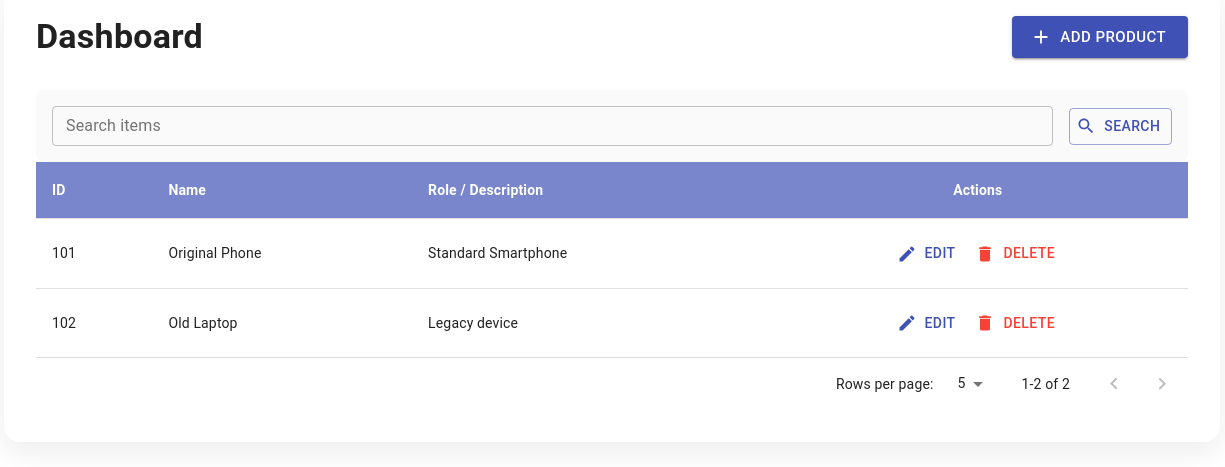
Test case: DeleteAndEdit Component › should handle product deletion
Expected: the text "Old Laptop" is shown, [152,288,412,358]
Click the button "Delete" in the row of "102": [1017, 323] box [972,305,1063,341]
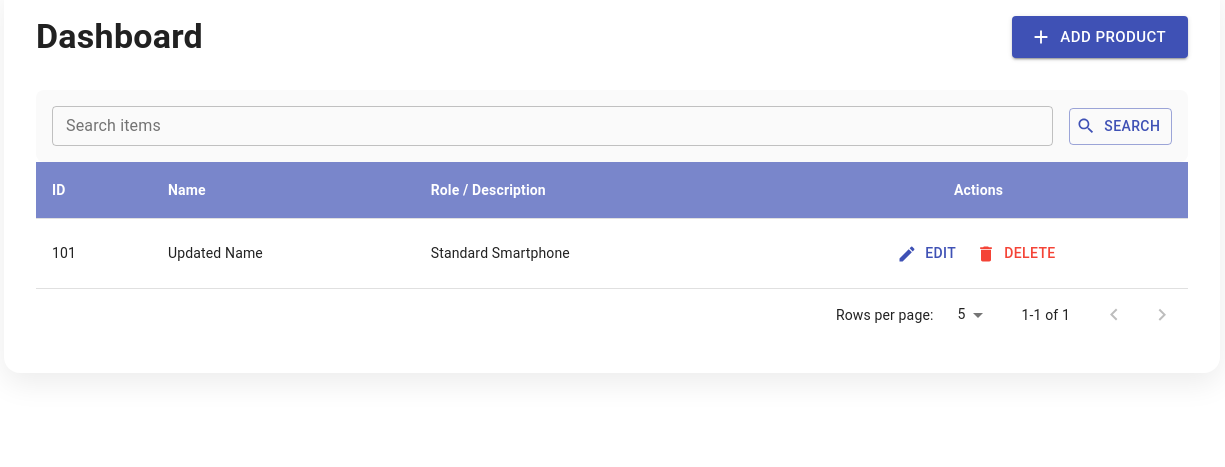
Expected: the text "Old Laptop" is gone
